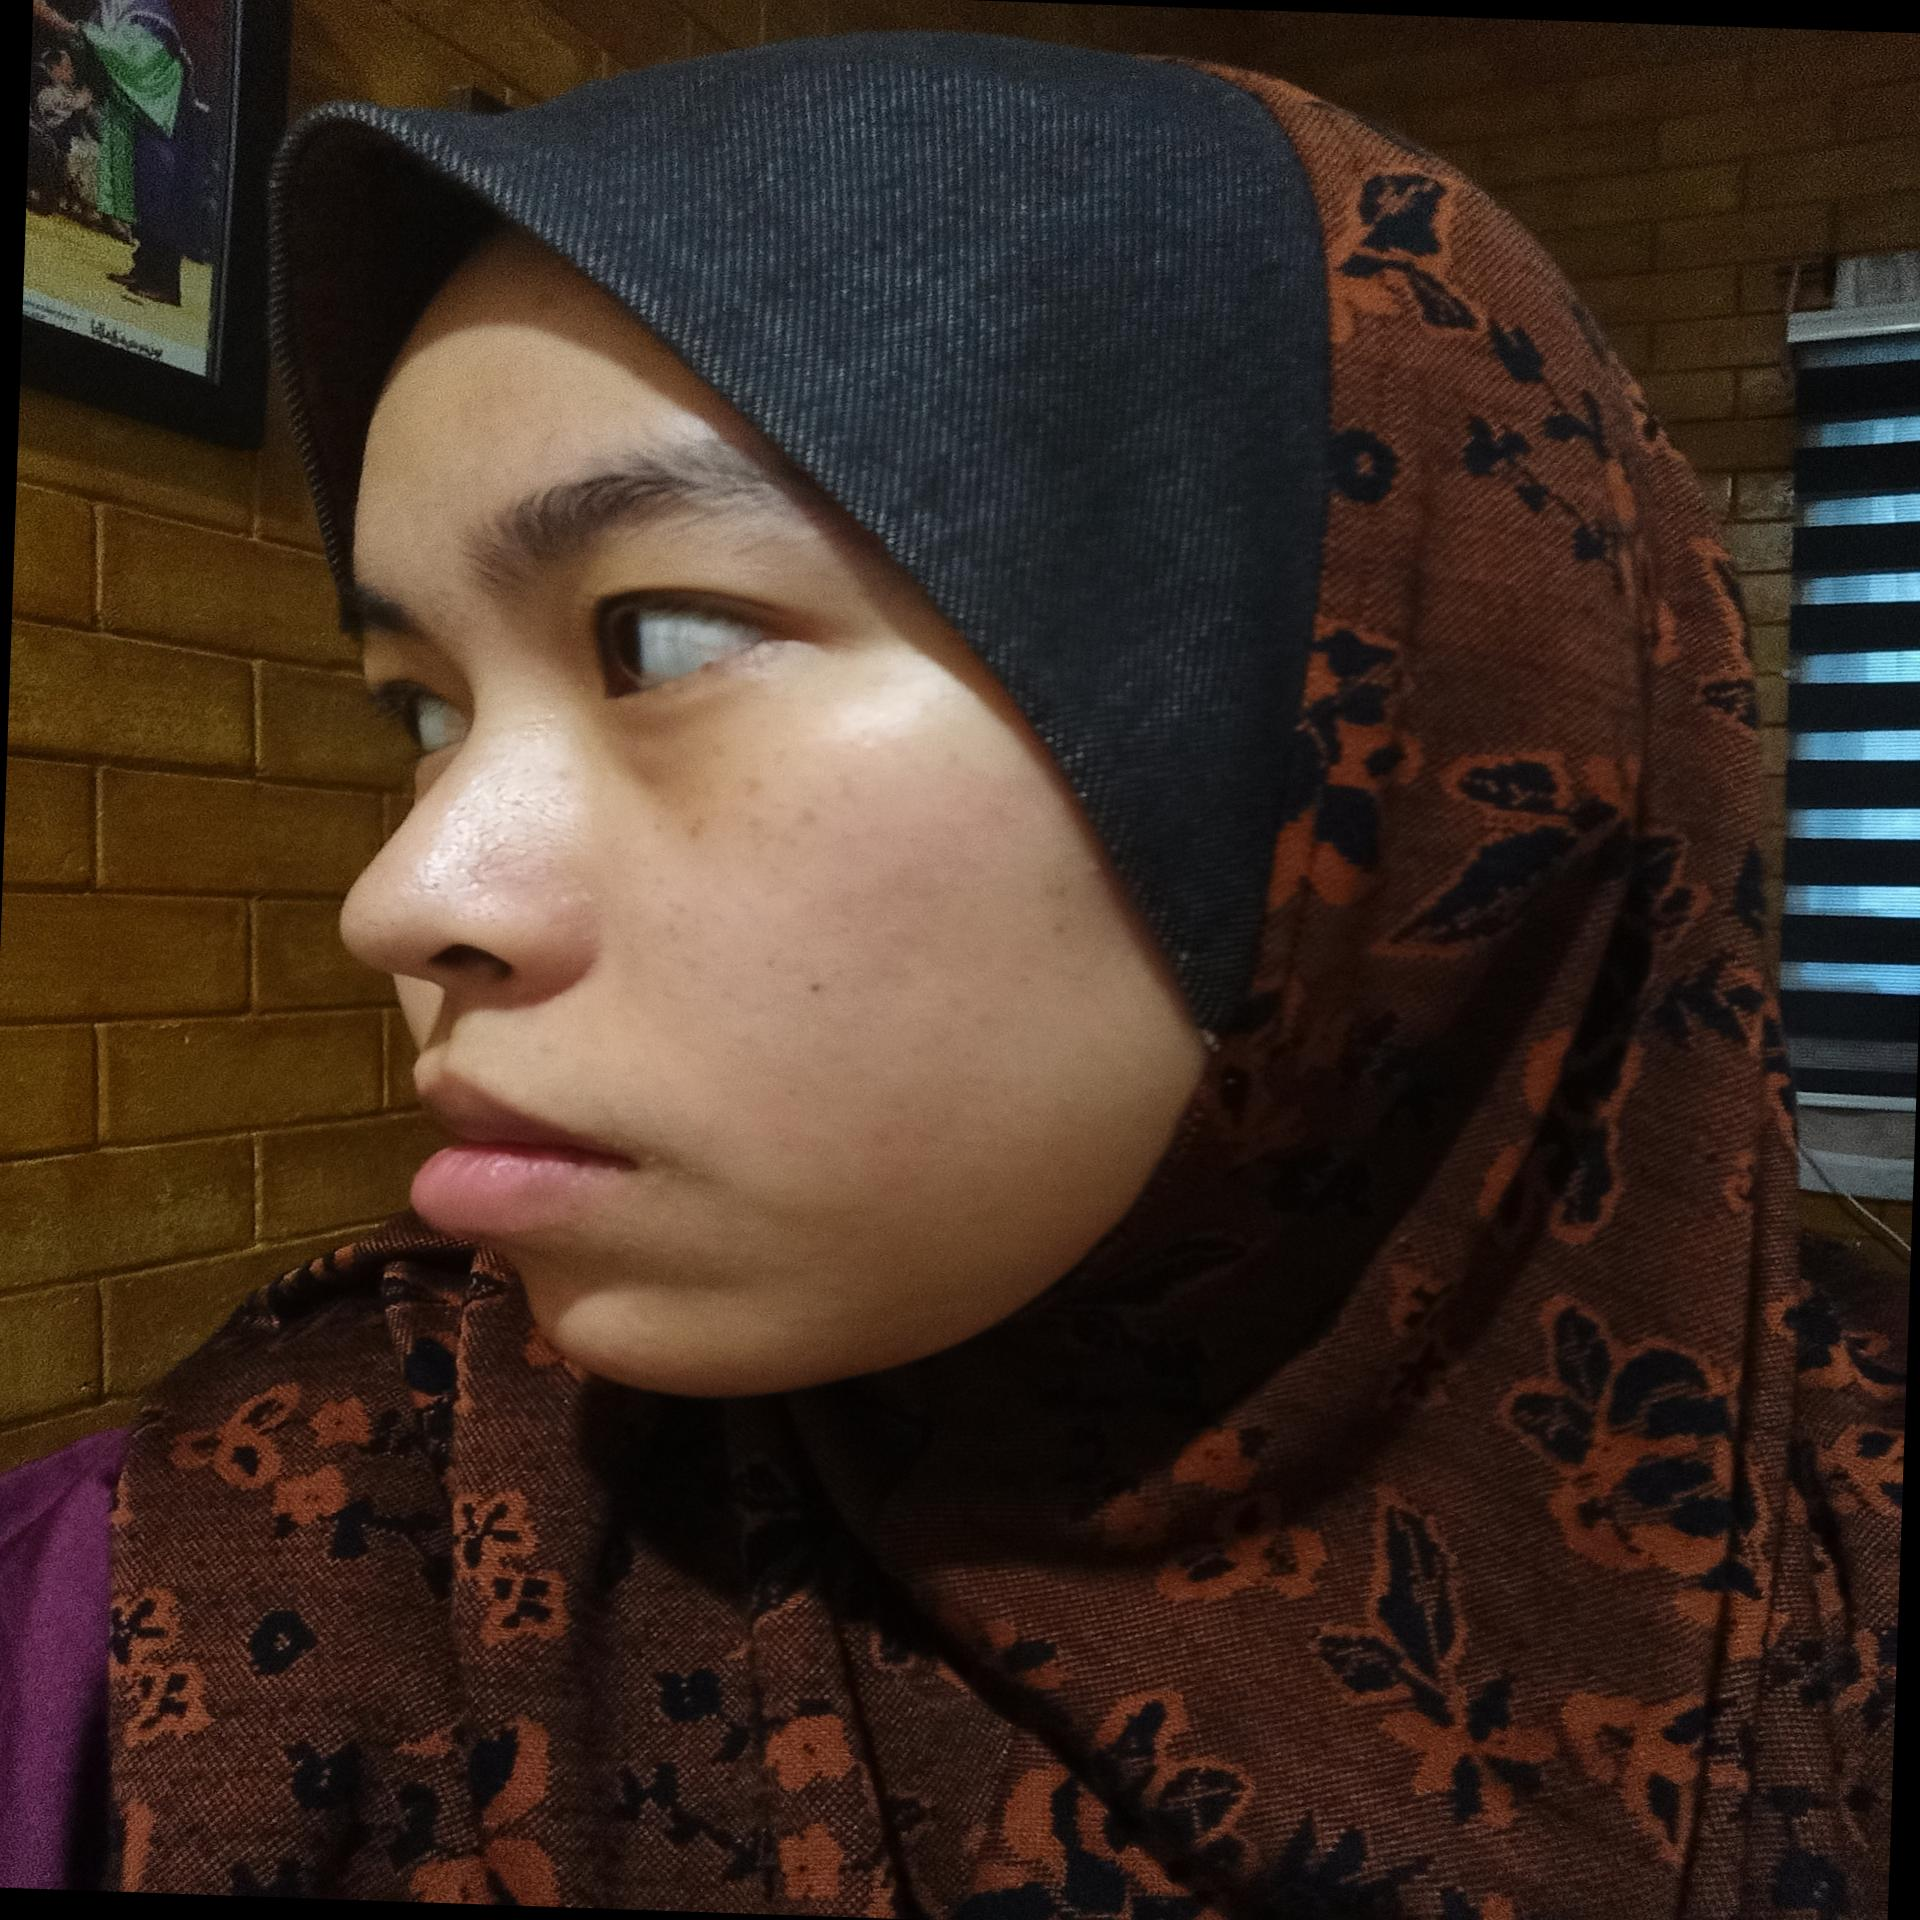Englarged Pores: (410, 798, 568, 937)
